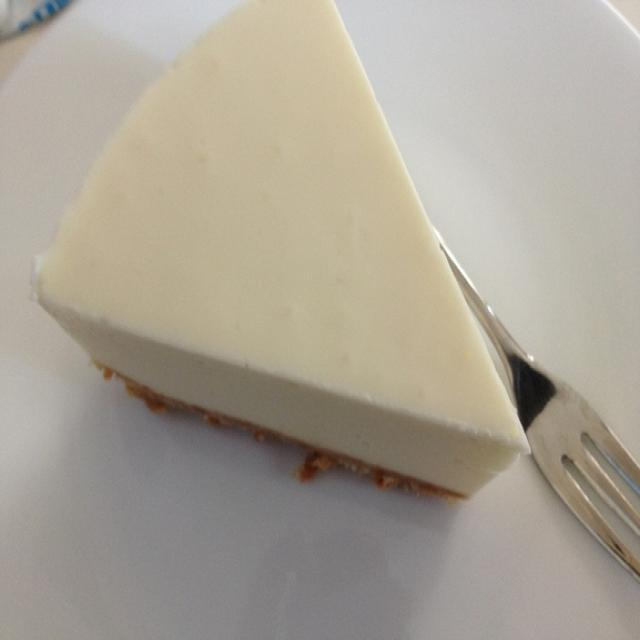Rare cheese cake: (26, 3, 554, 544)
